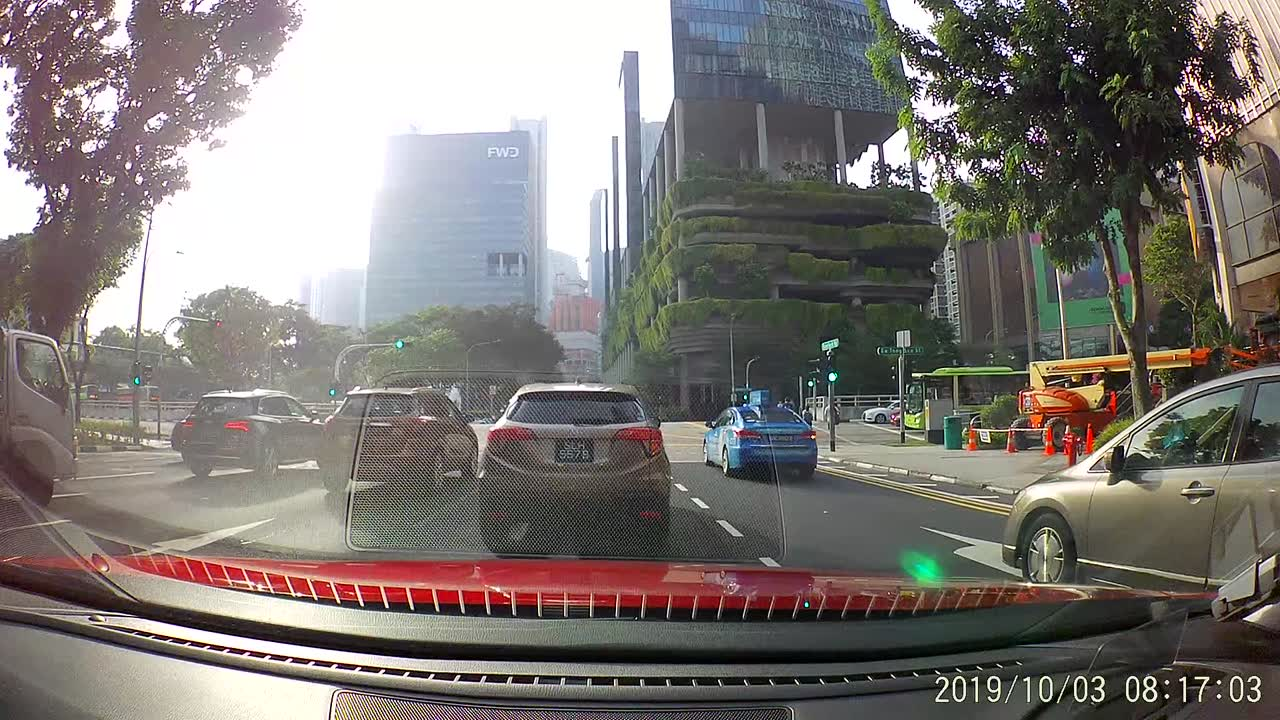bus: (905, 369, 1029, 439)
car: (1000, 370, 1278, 579), (481, 380, 671, 558), (320, 383, 479, 497), (169, 383, 319, 485), (701, 387, 819, 483), (860, 394, 904, 426)
